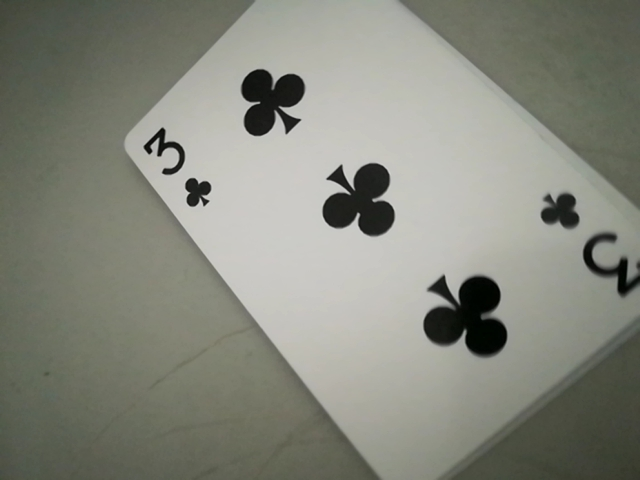mh 3: (540, 184, 640, 310), (133, 126, 217, 217)
